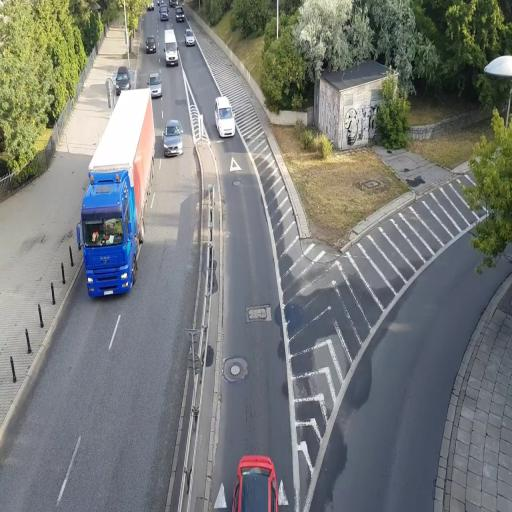vehicle: (78, 86, 156, 300), (232, 454, 278, 512), (214, 95, 235, 138), (163, 120, 183, 156), (163, 30, 179, 66), (113, 67, 132, 93), (148, 73, 163, 99), (144, 36, 157, 55), (184, 29, 196, 45)
